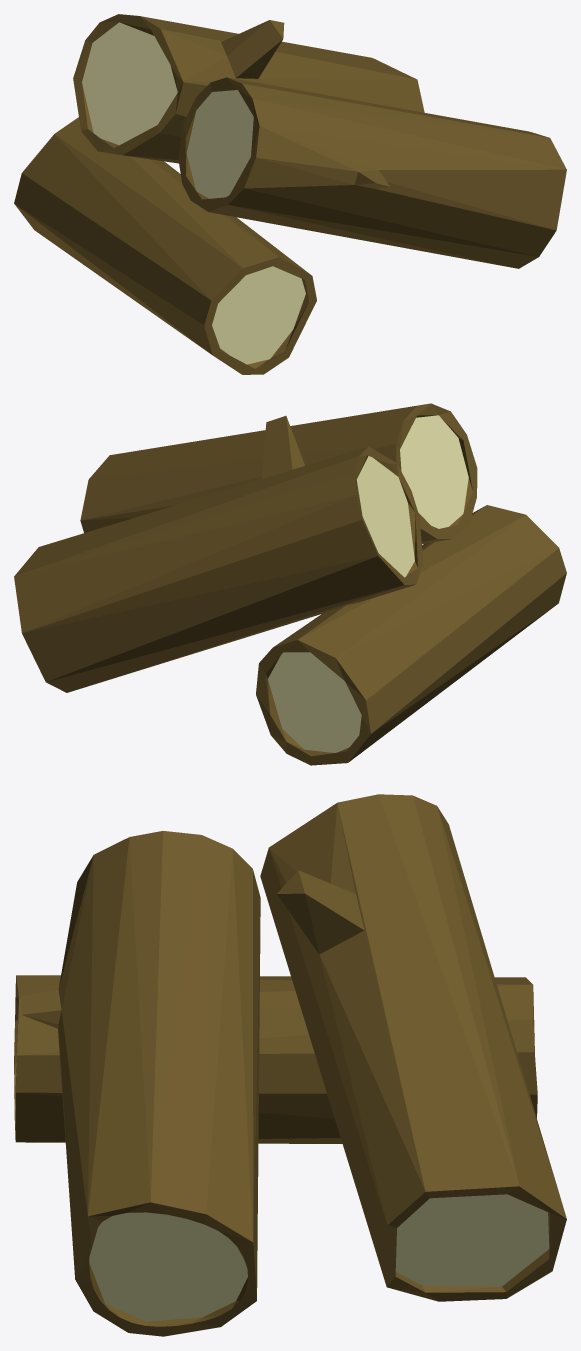
The model's file is campfire.fbx.
3 renders of one model, top to bottom at view 1: azimuth 30°, elevation 25°; view 2: azimuth 150°, elevation 25°; view 3: azimuth 270°, elevation 25°, orthographic. The views are drawn at different scales.
Parts seen in each view (by area): view 1: CampFire; view 2: CampFire; view 3: CampFire.
Boxes of the visible parts, x1,y1,x2,y2 form: CampFire: (14,14,566,374); CampFire: (14,403,566,765); CampFire: (14,794,566,1336).
Bounding box in the file's own units: 339 × 212 × 301.
